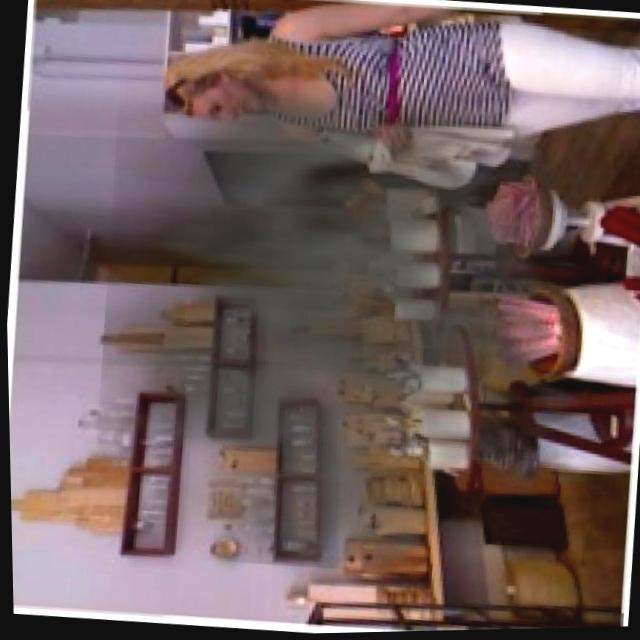no_helmet: (85, 33, 640, 593)
